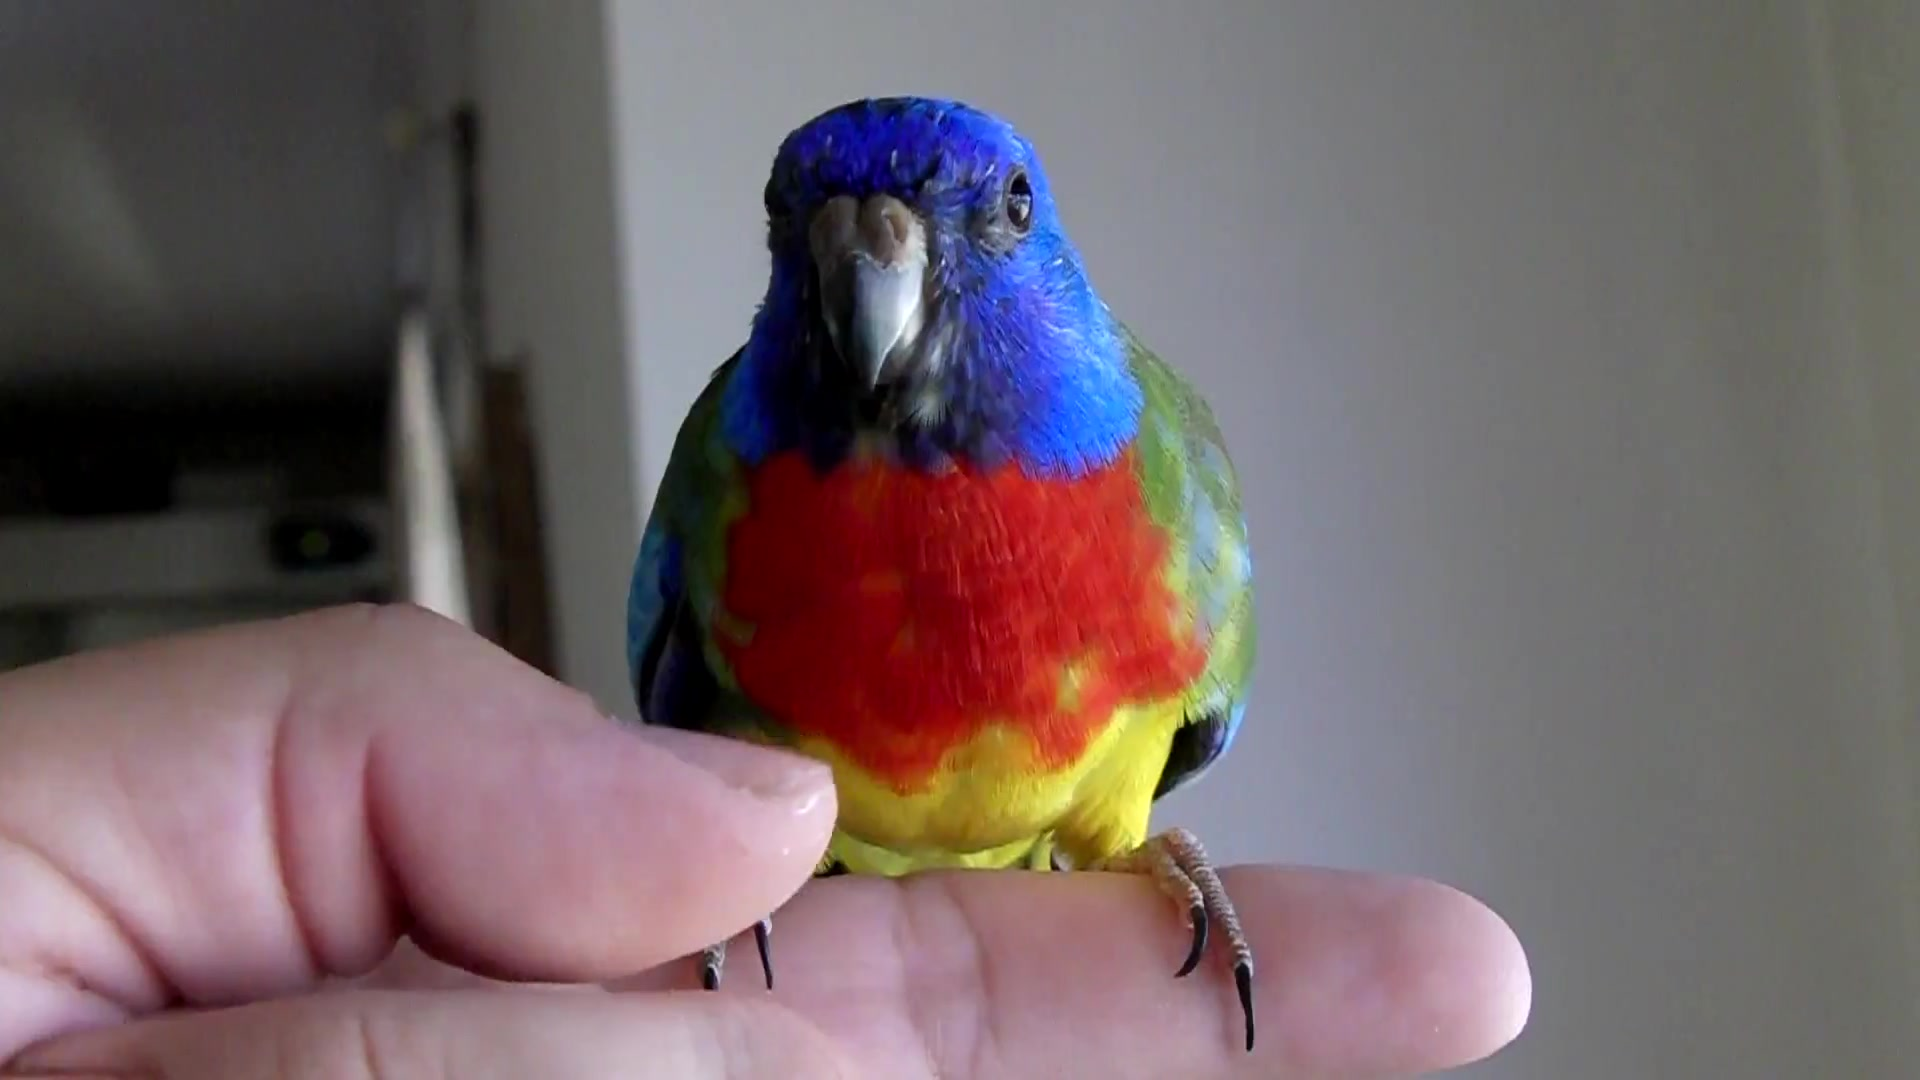bird: (624, 94, 1265, 1052)
